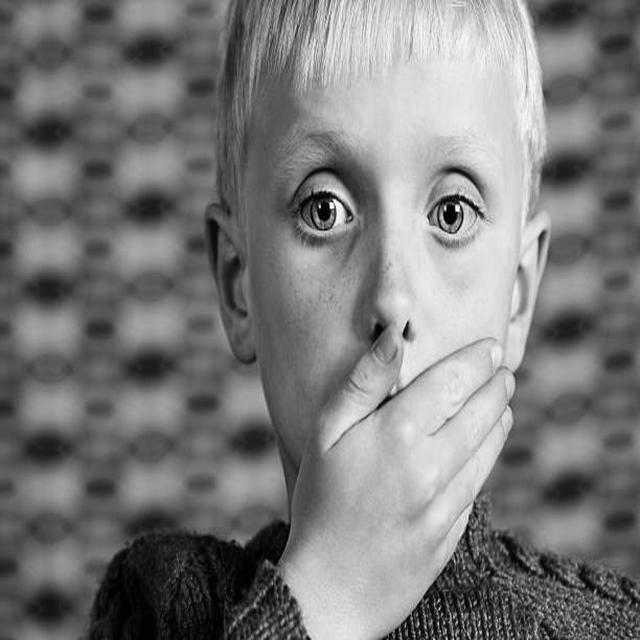Fear: (246, 36, 525, 492)
